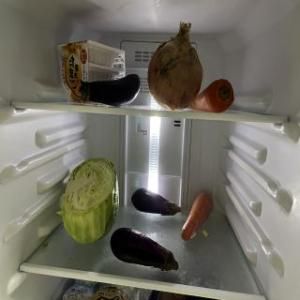cabbage: (60, 156, 118, 244)
carrot: (179, 193, 212, 241), (188, 80, 236, 112)
eggplant: (110, 229, 178, 271), (78, 73, 140, 105), (131, 187, 180, 215)
onion: (144, 23, 202, 110)
